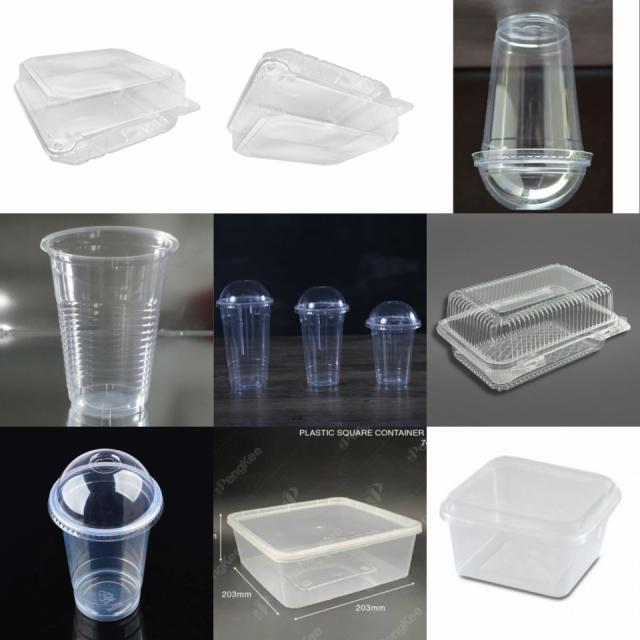Single-Use-Plastic: (41, 226, 179, 421), (440, 456, 621, 597), (436, 264, 630, 391), (472, 12, 592, 210), (228, 498, 422, 608), (14, 49, 199, 164), (228, 49, 412, 164), (49, 449, 164, 621), (216, 280, 272, 391), (295, 286, 349, 388), (365, 301, 421, 386)
